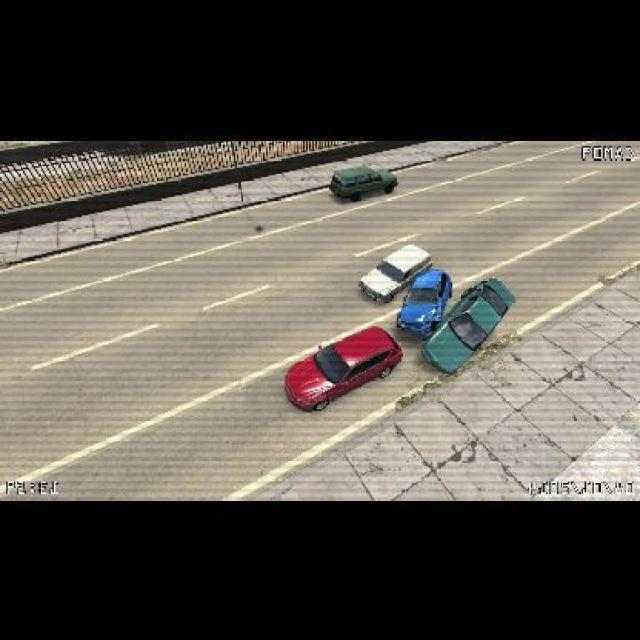accident: (391, 268, 515, 380), (348, 240, 458, 346)
